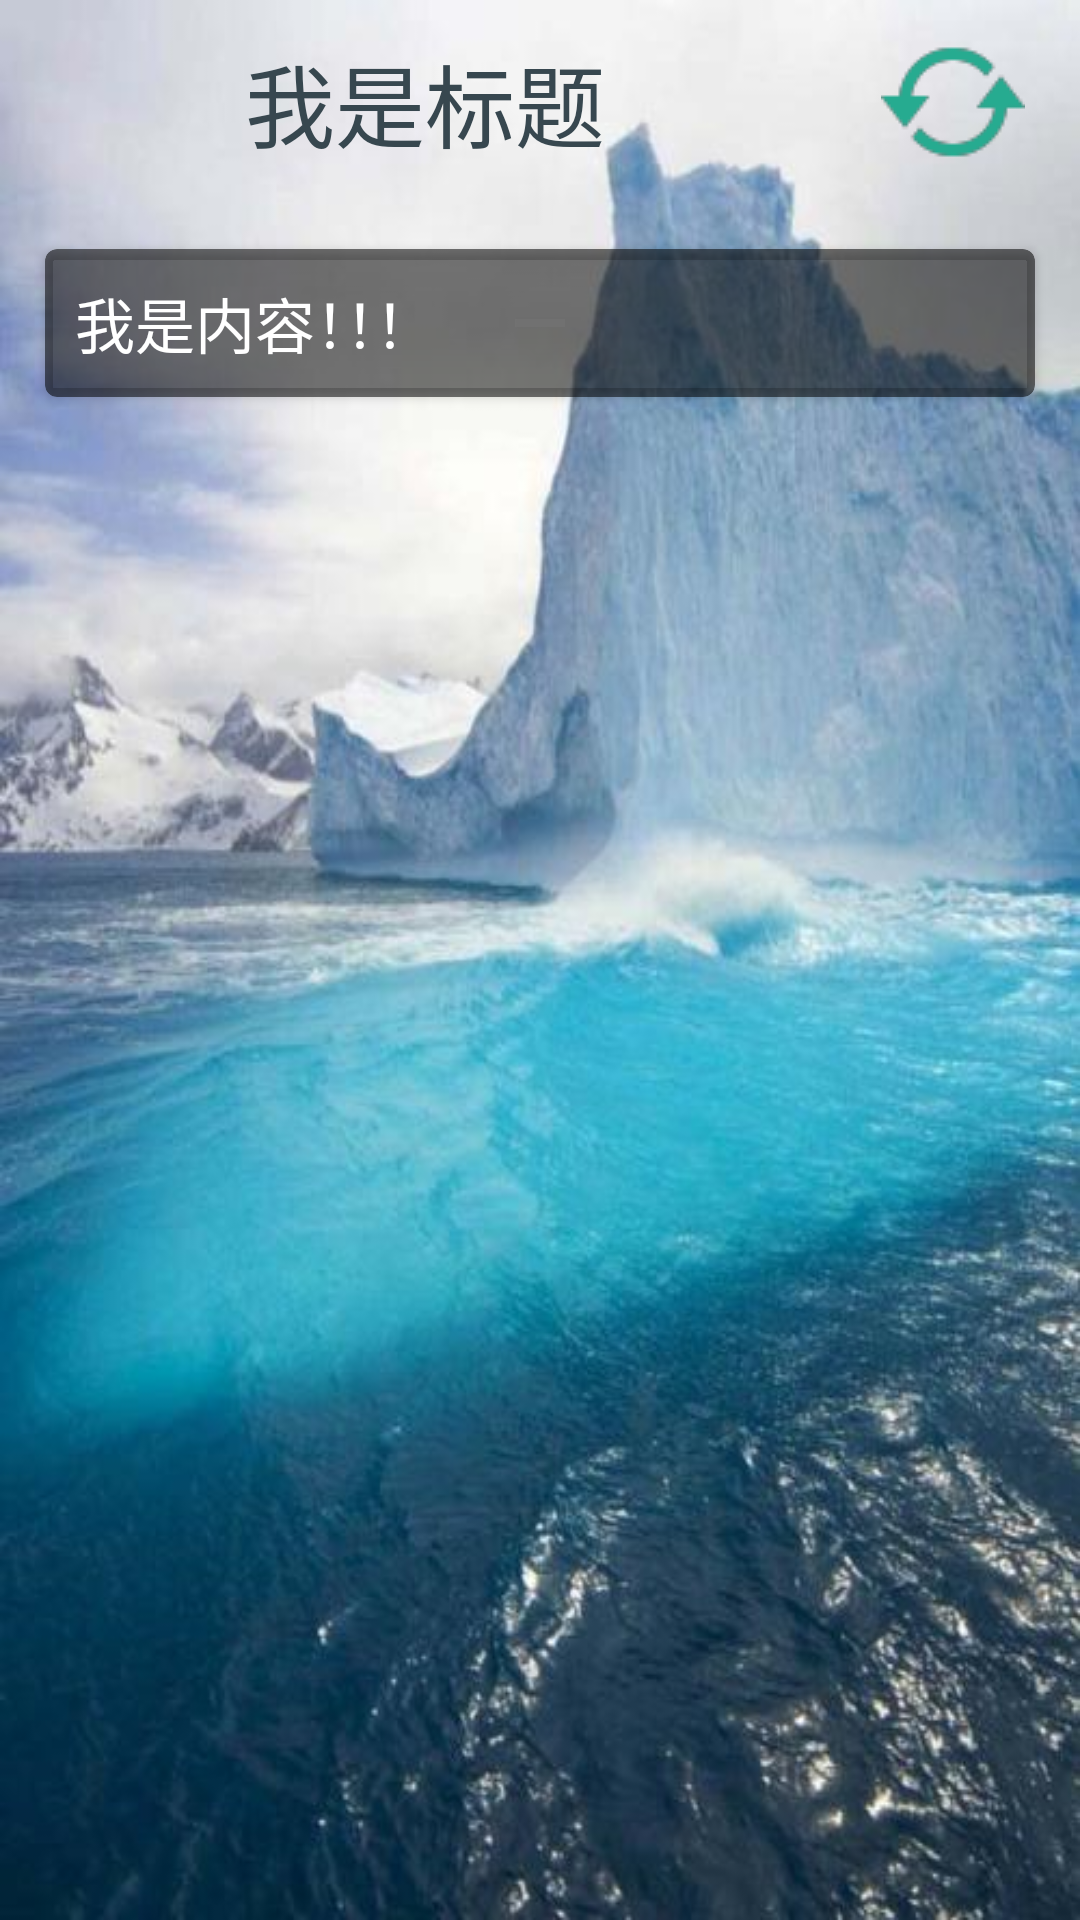

Point at icon controls on the screen. Image size 1080x1920, points as (x=x, y=y).
refresh: (x=953, y=102)
